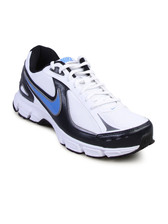shoes: (13, 39, 157, 160)
